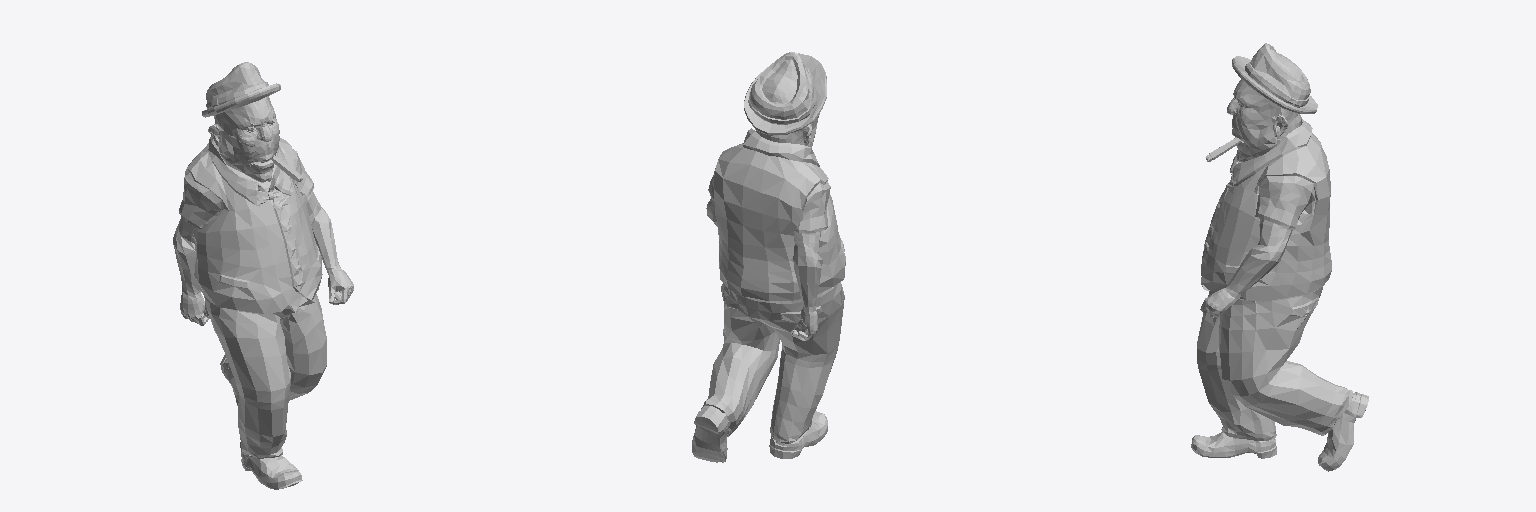
File: walk0030.obj
3 renders of one model, left to right at view 1: azimuth 30°, elevation 25°; view 2: azimuth 150°, elevation 25°; view 3: azimuth 270°, elevation 25°, orthographic.
Parts seen in each view (by area): view 1: mixamorig:Jacket_Geo, mixamorig:Pants_Geo, mixamorig:Head_Geo, mixamorig:Arms_Geo, mixamorig:Hat_Geo, mixamorig:Shoes_Geo; view 2: mixamorig:Jacket_Geo, mixamorig:Pants_Geo, mixamorig:Hat_Geo, mixamorig:Shoes_Geo, mixamorig:Arms_Geo, mixamorig:Head_Geo; view 3: mixamorig:Pants_Geo, mixamorig:Jacket_Geo, mixamorig:Head_Geo, mixamorig:Shoes_Geo, mixamorig:Hat_Geo, mixamorig:Arms_Geo.
Boxes of the visible parts, <box> form: mixamorig:Jacket_Geo: <box>179,136,322,313</box>; mixamorig:Pants_Geo: <box>204,294,326,458</box>; mixamorig:Head_Geo: <box>208,96,279,192</box>; mixamorig:Arms_Geo: <box>173,191,353,325</box>; mixamorig:Hat_Geo: <box>202,62,280,117</box>; mixamorig:Shoes_Geo: <box>220,355,302,489</box>; mixamorig:Jacket_Geo: <box>708,128,845,300</box>; mixamorig:Pants_Geo: <box>701,282,844,443</box>; mixamorig:Hat_Geo: <box>744,52,826,135</box>; mixamorig:Shoes_Geo: <box>692,406,827,462</box>; mixamorig:Arms_Geo: <box>706,198,822,340</box>; mixamorig:Head_Geo: <box>756,113,819,146</box>; mixamorig:Pants_Geo: <box>1197,287,1352,440</box>; mixamorig:Jacket_Geo: <box>1201,119,1331,301</box>; mixamorig:Head_Geo: <box>1227,79,1301,161</box>; mixamorig:Shoes_Geo: <box>1191,392,1368,471</box>; mixamorig:Hat_Geo: <box>1232,43,1317,113</box>; mixamorig:Arms_Geo: <box>1200,218,1292,317</box>.
Size of the model in its own units: 0.6704 by 1.96 by 0.7826.